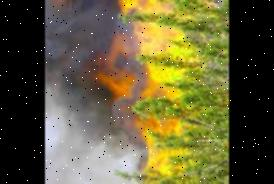fire: (110, 0, 197, 184)
